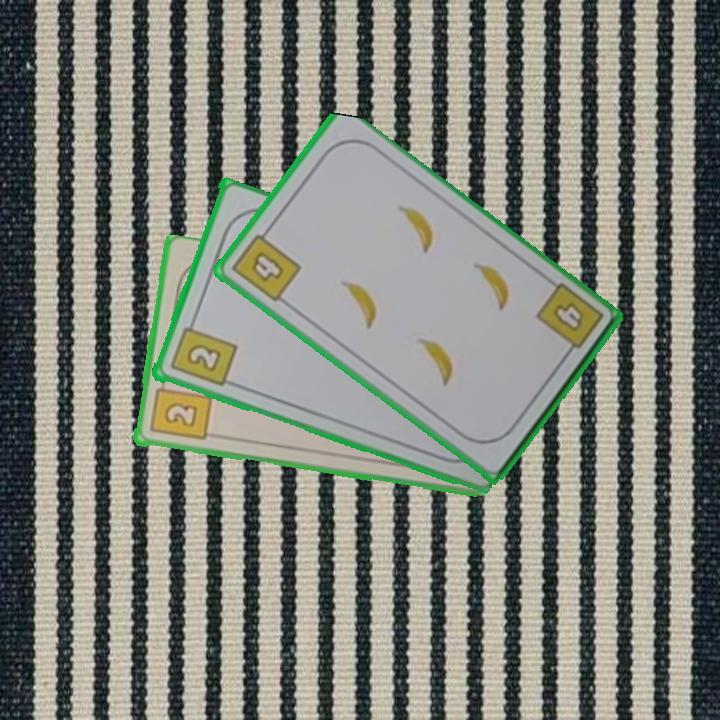2b: (166, 315, 239, 390), (146, 375, 213, 444)
4b: (228, 224, 305, 305), (532, 279, 606, 362)
